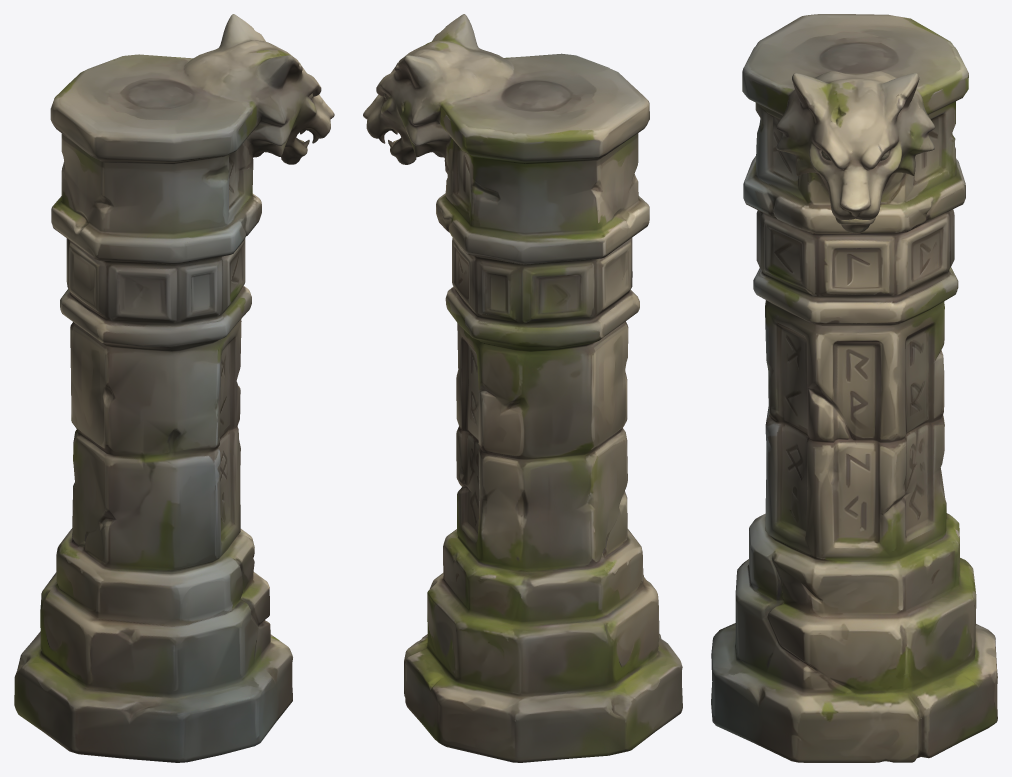
The model's file is 08-pillar.glb.
3 views of the same model, side by side, from view 1: azimuth 30°, elevation 25°; view 2: azimuth 150°, elevation 25°; view 3: azimuth 270°, elevation 25° (orthographic). The views are drawn at different scales.
Visible parts, largest first — view 1: tripo_node_6406e7bf-1c65-4de1-92b4-18adee55f2a9; view 2: tripo_node_6406e7bf-1c65-4de1-92b4-18adee55f2a9; view 3: tripo_node_6406e7bf-1c65-4de1-92b4-18adee55f2a9.
Part boxes in pixels (bbox=[...]): tripo_node_6406e7bf-1c65-4de1-92b4-18adee55f2a9: bbox=[14, 14, 334, 762]; tripo_node_6406e7bf-1c65-4de1-92b4-18adee55f2a9: bbox=[363, 14, 682, 762]; tripo_node_6406e7bf-1c65-4de1-92b4-18adee55f2a9: bbox=[711, 14, 997, 762].
Size of the model in its own units: 0.4692 by 0.9995 by 0.3774.
Materials: 1 (1 with a texture image).
